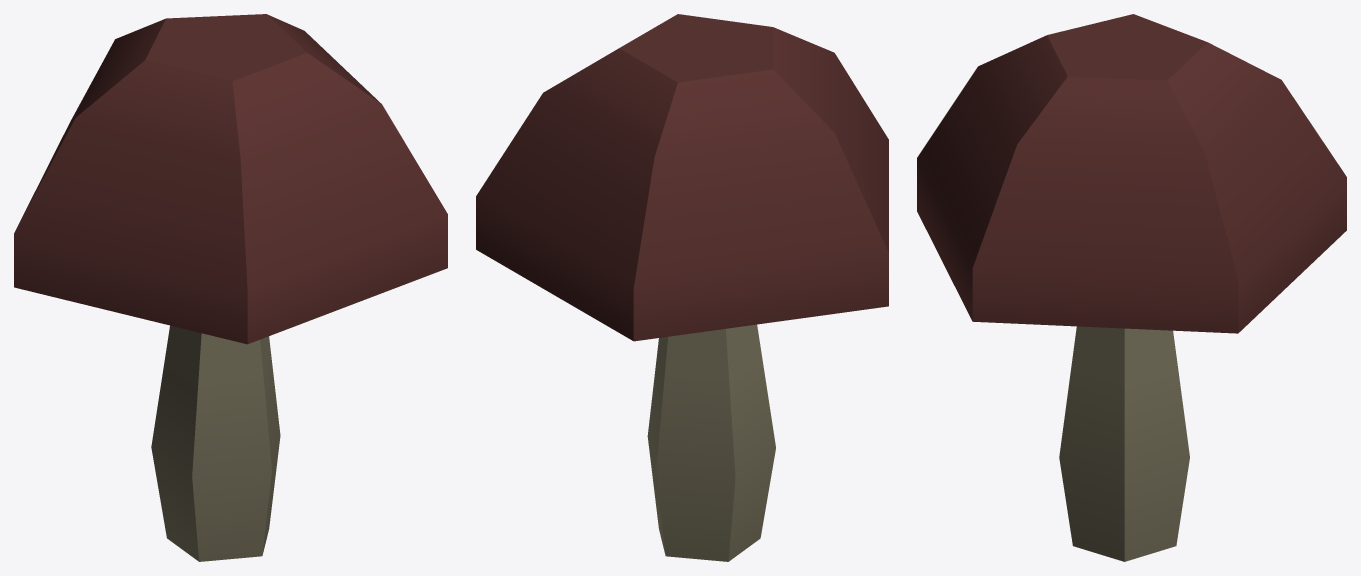
The model's file is BigRedMushroom.fbx.
3 views of the same model, side by side, from view 1: azimuth 30°, elevation 25°; view 2: azimuth 150°, elevation 25°; view 3: azimuth 270°, elevation 25° (orthographic).
Visible parts, largest first — view 1: RedMushroom1; view 2: RedMushroom1; view 3: RedMushroom1.
Boxes of the visible parts, x1,y1,x2,y2 form: RedMushroom1: (14,14,447,561); RedMushroom1: (476,14,888,561); RedMushroom1: (917,14,1346,561).
Bounding box in the file's own units: 10.24 × 13.09 × 10.41.
